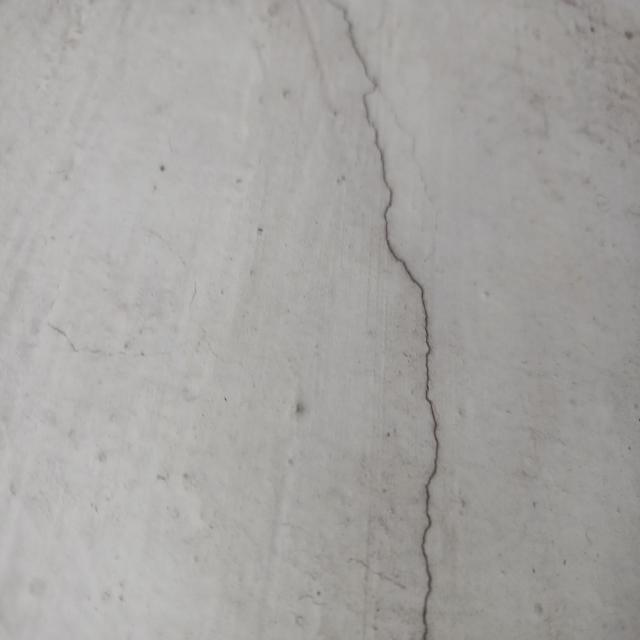SurfaceCrack: (288, 1, 485, 639)
